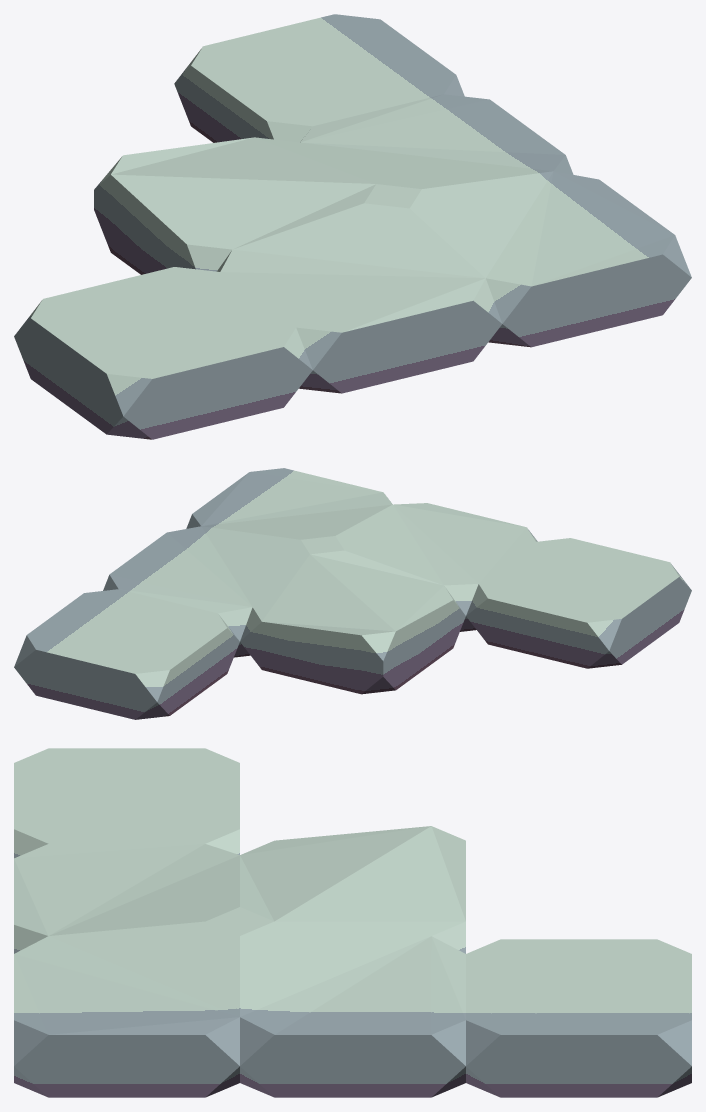
Rendered from Tiles 2.001.fbx.
3 renders of one model, top to bottom at view 1: azimuth 30°, elevation 25°; view 2: azimuth 150°, elevation 25°; view 3: azimuth 270°, elevation 25°, orthographic. The views are drawn at different scales.
Visible parts, largest first — view 1: Tiles 2.001; view 2: Tiles 2.001; view 3: Tiles 2.001.
Boxes of the visible parts, box(x1,y1,x2,y2) form: Tiles 2.001: box(14, 14, 691, 439); Tiles 2.001: box(14, 468, 691, 719); Tiles 2.001: box(14, 748, 691, 1097).
Bounding box in the file's own units: 495 × 64.97 × 495.
